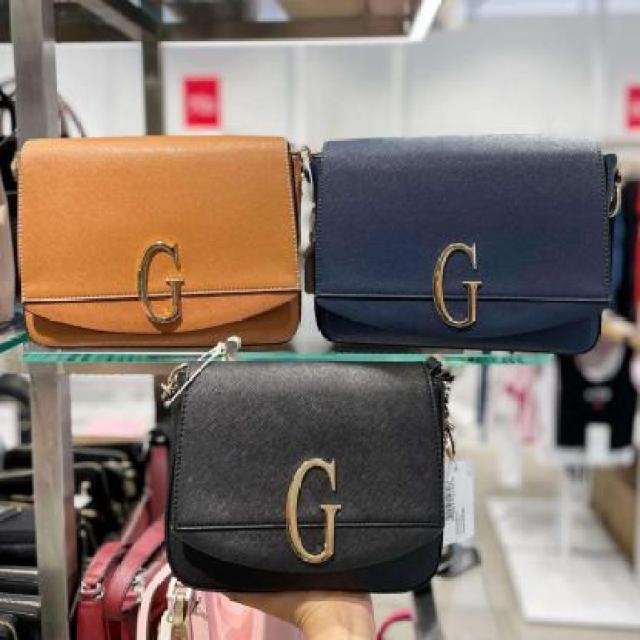Bag: (283, 81, 640, 377), (134, 319, 486, 613), (0, 106, 334, 392)
